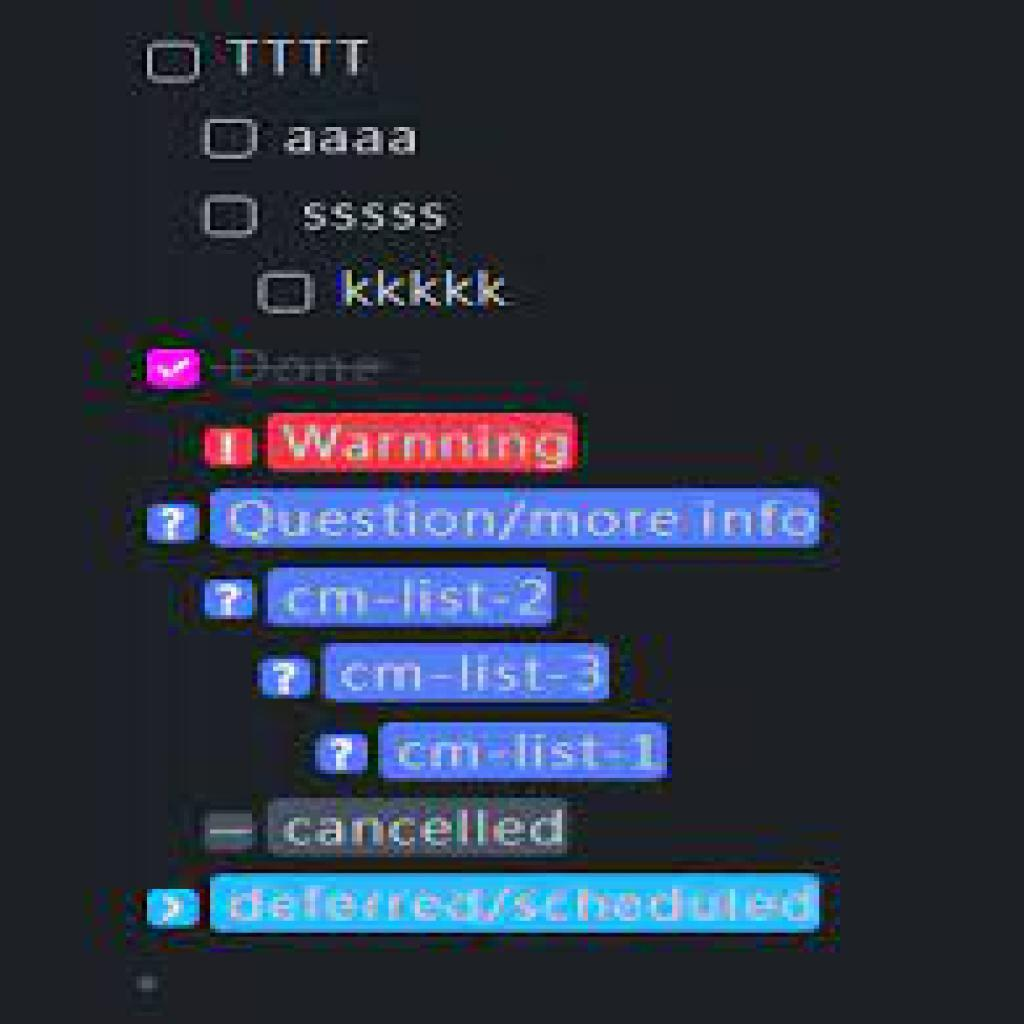checkbox: (142, 35, 212, 90), (195, 191, 266, 245), (201, 112, 265, 167), (257, 267, 320, 321), (142, 347, 207, 393)
